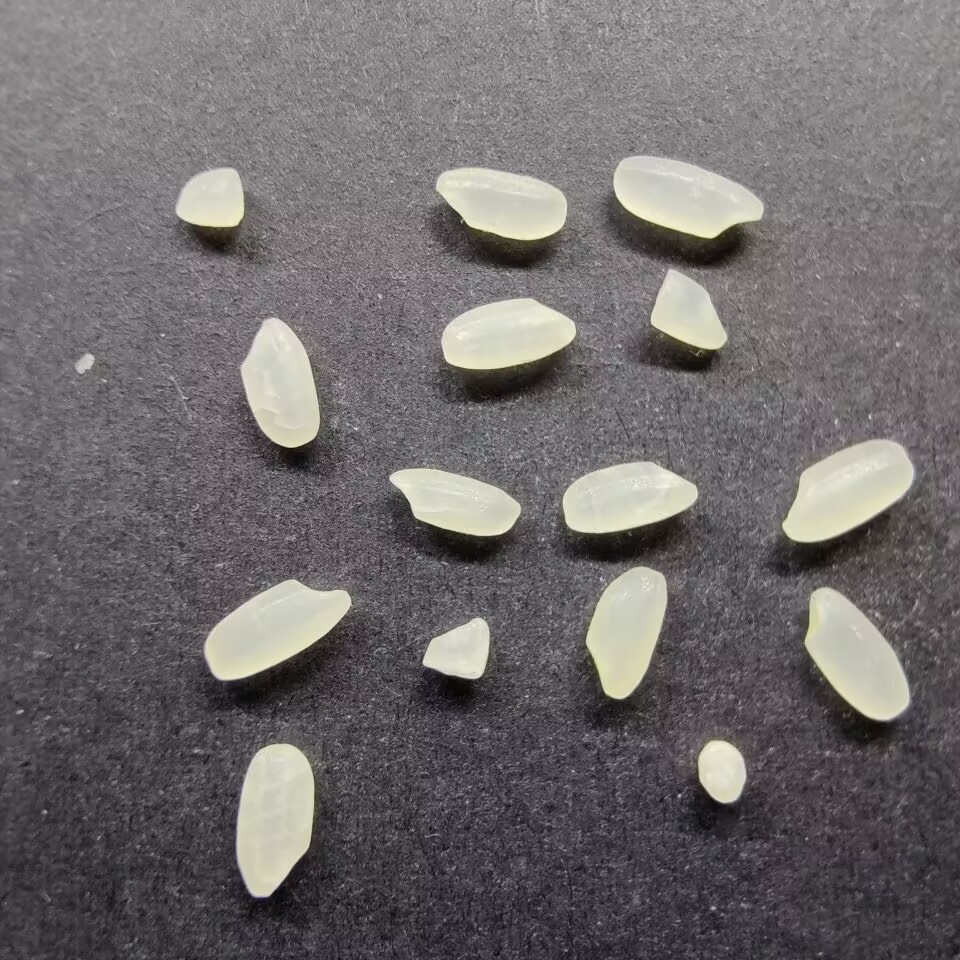broken: (647, 266, 730, 351), (421, 614, 492, 681), (173, 165, 245, 230), (693, 739, 747, 804)
rice: (202, 577, 352, 684), (801, 586, 914, 723), (780, 437, 917, 544), (610, 153, 766, 241), (234, 743, 313, 899), (583, 566, 669, 700), (238, 316, 322, 449), (561, 458, 702, 535), (440, 297, 580, 372), (433, 166, 570, 240), (388, 467, 522, 539)
